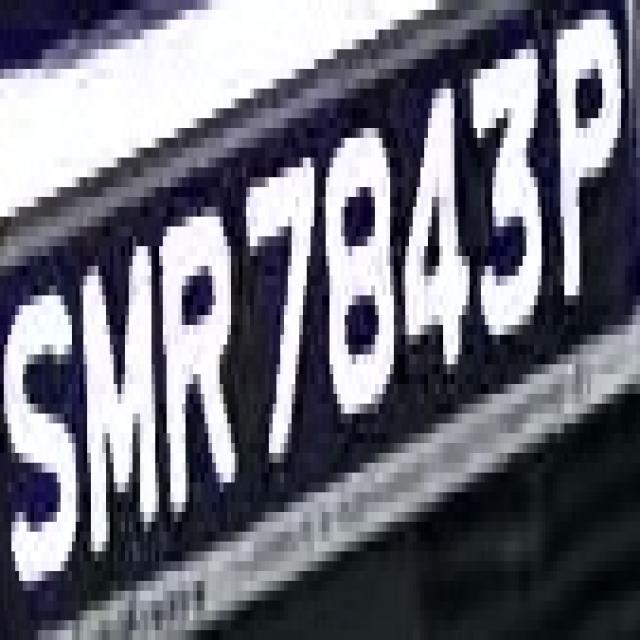3: (462, 29, 553, 364)
4: (394, 49, 477, 404)
7: (231, 128, 326, 463)
8: (314, 138, 402, 423)
M: (76, 197, 166, 551)
P: (538, 10, 628, 325)
R: (155, 177, 235, 561)
S: (0, 216, 79, 640)
